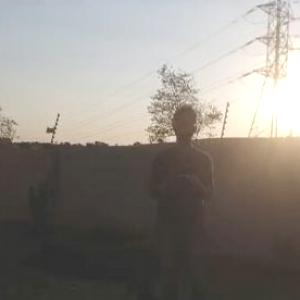follow: (143, 101, 216, 299)
